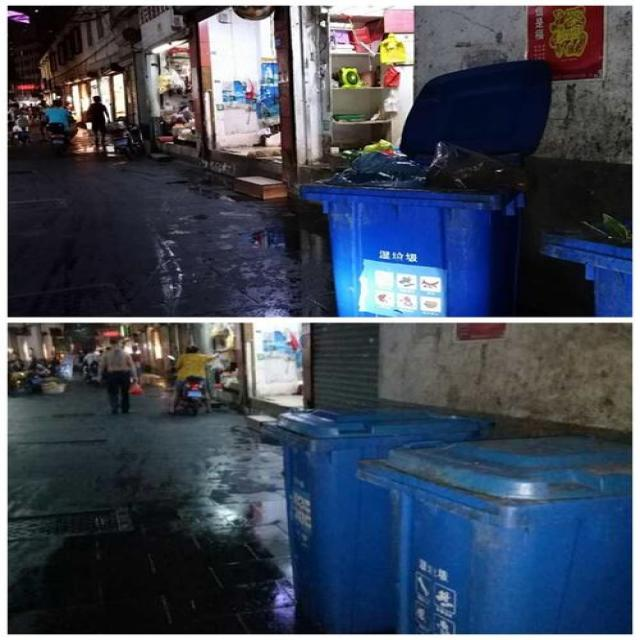garbage_bin: (353, 432, 626, 630), (260, 404, 491, 632)
overflow: (297, 140, 531, 316)
